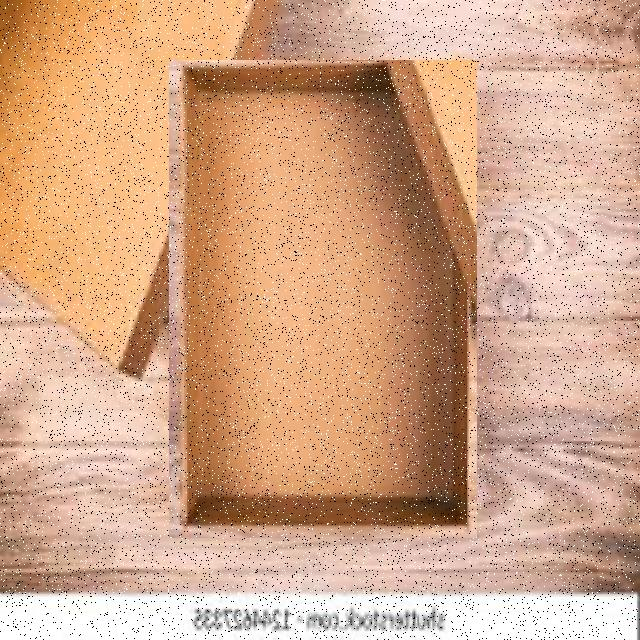defect: (169, 60, 477, 538)
